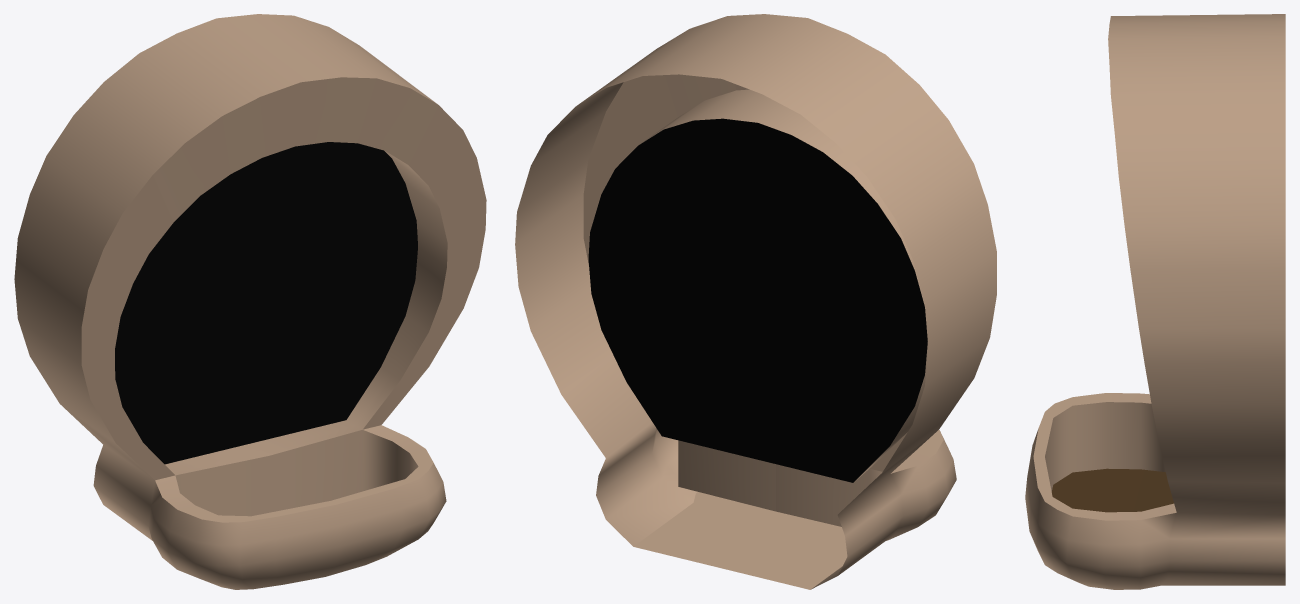
File: window_04_closed.fbx
The picture shows the model from 3 angles, left to right: view 1: azimuth 30°, elevation 25°; view 2: azimuth 150°, elevation 25°; view 3: azimuth 270°, elevation 25°; orthographic projection. The views are drawn at different scales.
Visible parts, largest first — view 1: window_04_closed; view 2: window_04_closed; view 3: window_04_closed.
Part boxes in pixels (x1=…): window_04_closed: x1=14, y1=14, x2=486, y2=589; window_04_closed: x1=515, y1=14, x2=996, y2=589; window_04_closed: x1=1025, y1=14, x2=1285, y2=589.
Bounding box in the file's own units: 172 × 195 × 91.15.
